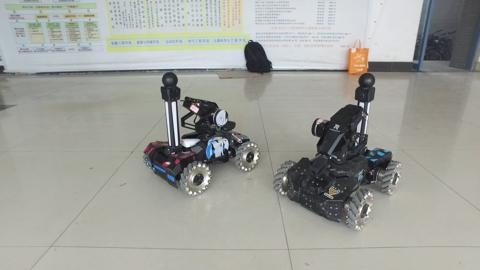chariot: (276, 70, 405, 240), (129, 68, 261, 205)
